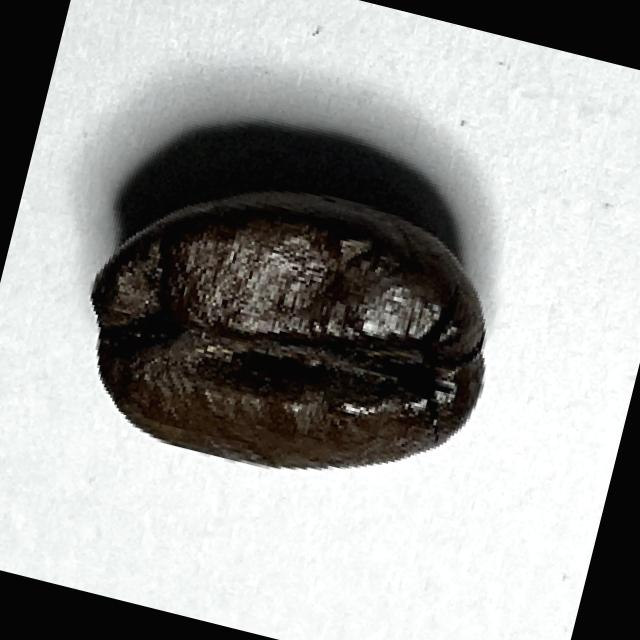bean: (57, 145, 518, 514)
